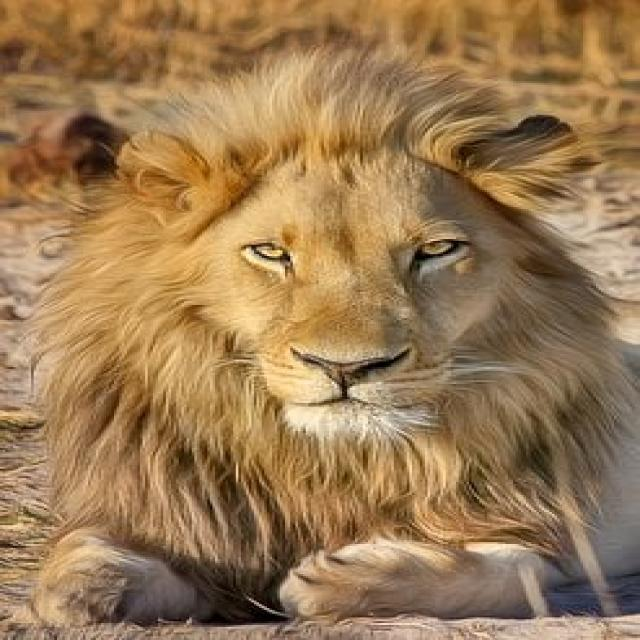Lion: (36, 58, 637, 615)
